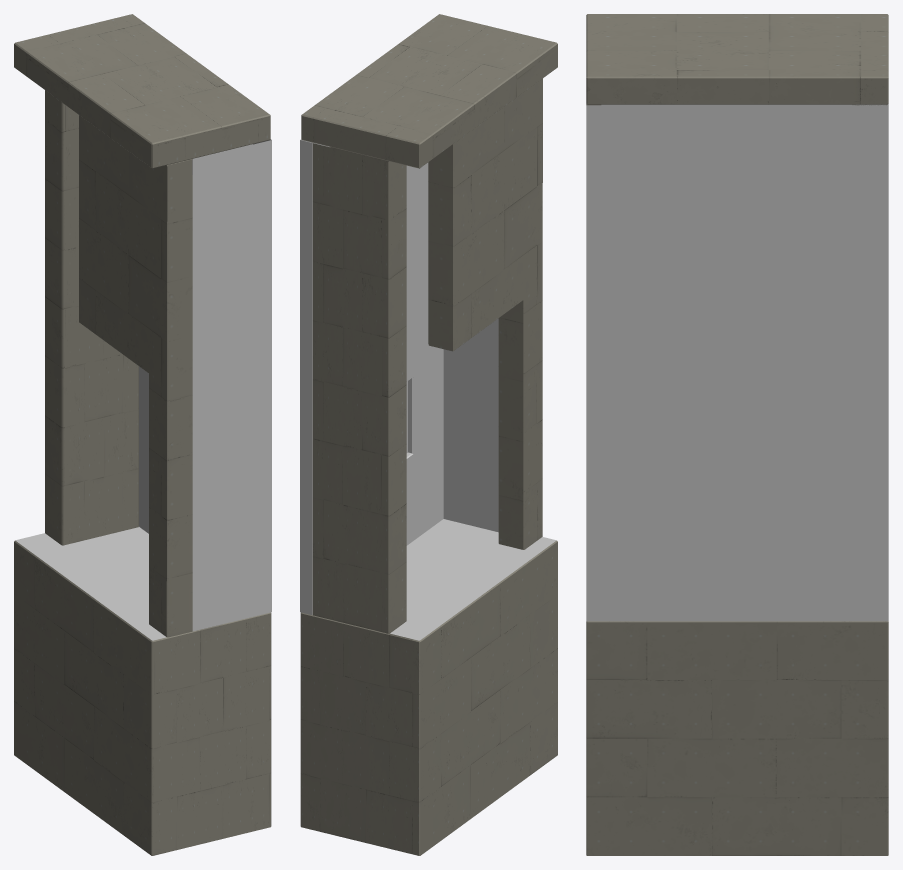
The model's file is DoorWallsShort.fbx.
3 views of the same model, side by side, from view 1: azimuth 30°, elevation 25°; view 2: azimuth 150°, elevation 25°; view 3: azimuth 270°, elevation 25° (orthographic). The views are drawn at different scales.
Visible parts, largest first — view 1: Floor, WallEntry, MetalWall, ConcreteWall; view 2: Floor, WallEntry, ConcreteWall, MetalWall; view 3: MetalWall, Floor, WallEntry.
Boxes of the visible parts, x1,y1,x2,y2 form: Floor: (14, 527, 271, 855); WallEntry: (14, 14, 270, 637); MetalWall: (139, 139, 271, 631); ConcreteWall: (45, 90, 138, 545); Floor: (300, 519, 557, 855); WallEntry: (301, 14, 557, 549); ConcreteWall: (312, 143, 406, 633); MetalWall: (300, 139, 498, 614); MetalWall: (586, 104, 888, 621); Floor: (586, 621, 888, 855); WallEntry: (586, 14, 888, 105).
Bounding box in the file's own units: 2.5 × 14.2 × 5.
